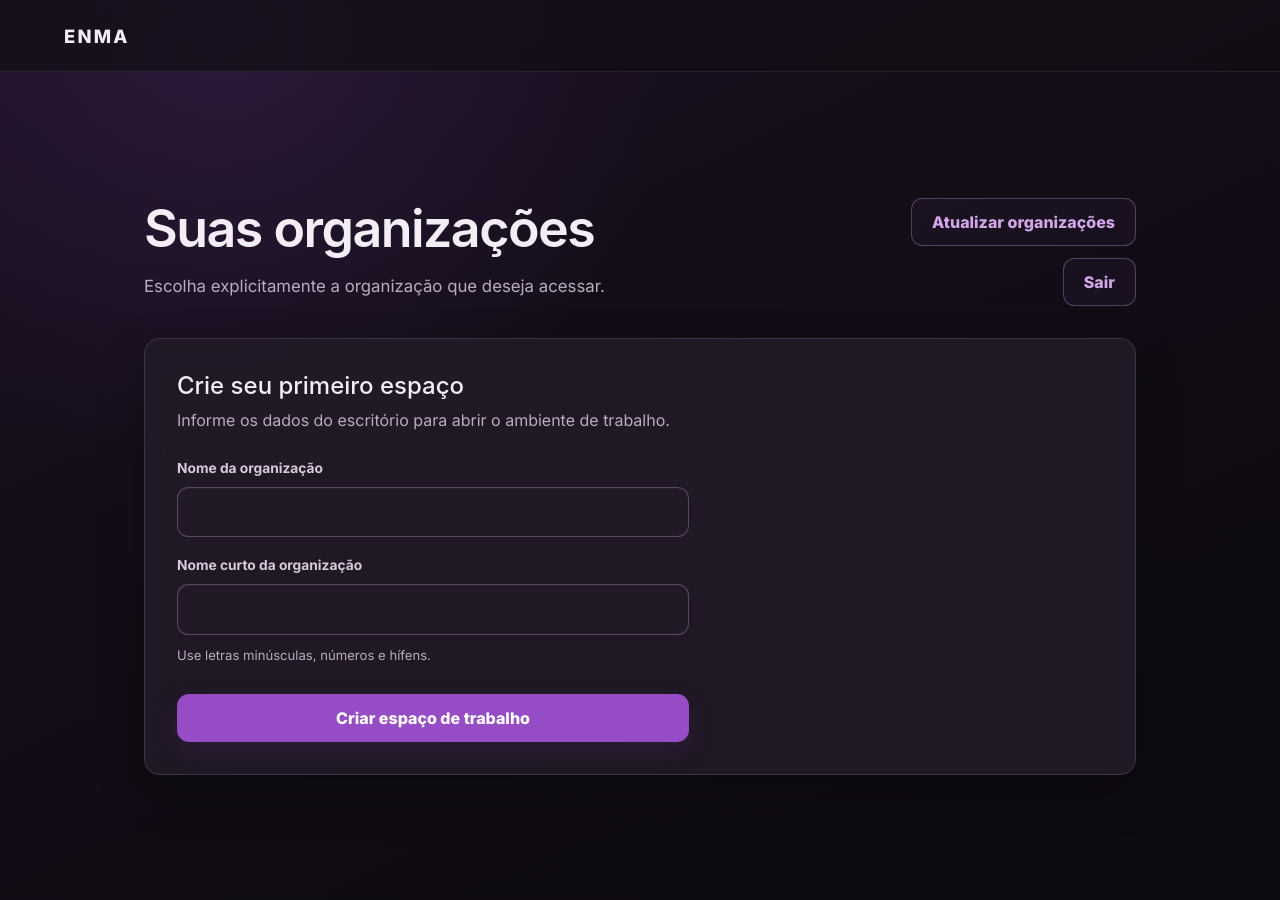
Scenario: organization discovery and routing › InitialOrganization_DuplicateShortName_AssociatesErrorAndAllowsRetry
Expected: the heading "Crie seu primeiro espaço" is shown, [177,370,464,400]
Type "Google Legal" into the field labelled "Nome da organização" at (433, 512), box [177,487,689,537]
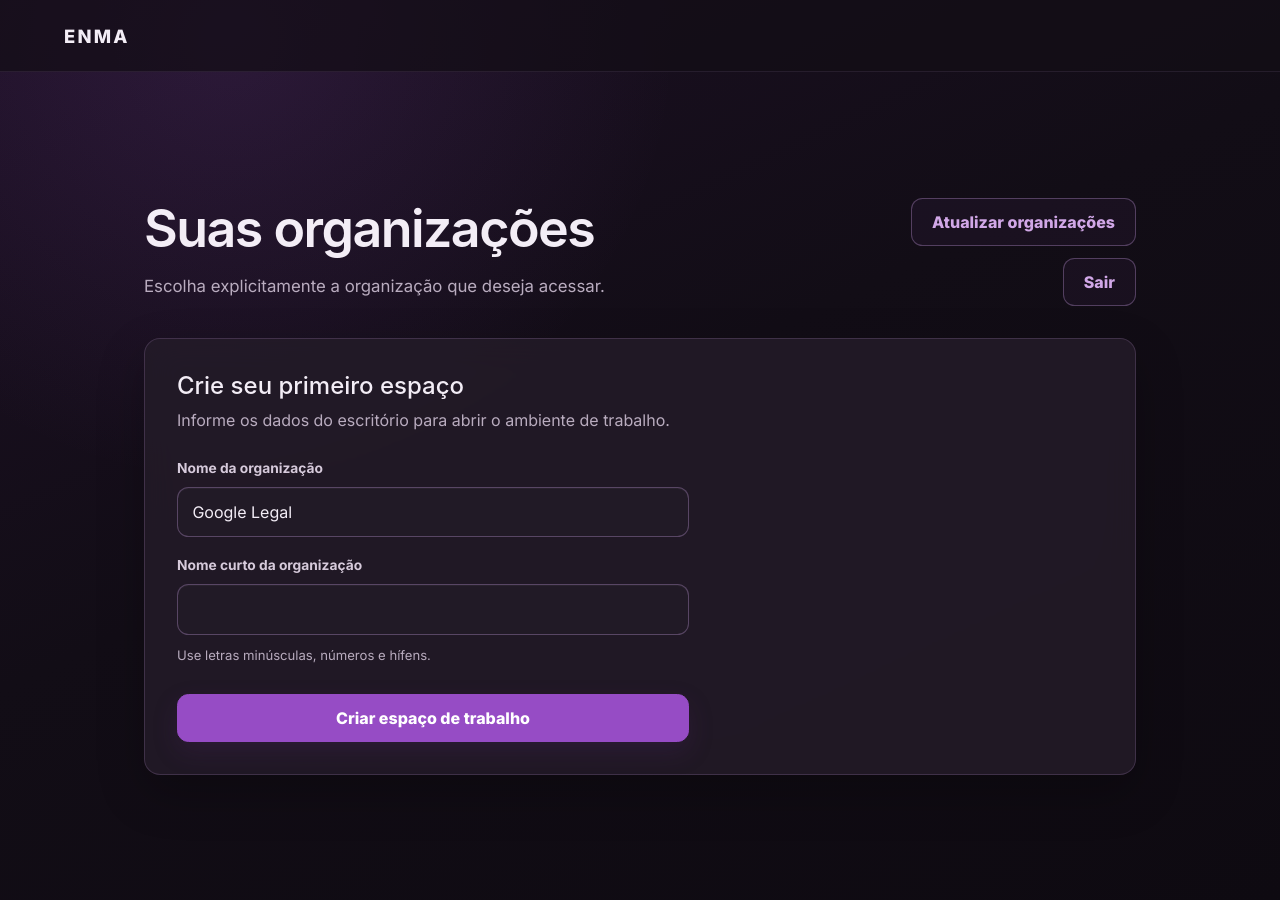
Type "google-legal" into the field labelled "Nome curto da organização" at (433, 610), box [177,584,689,635]
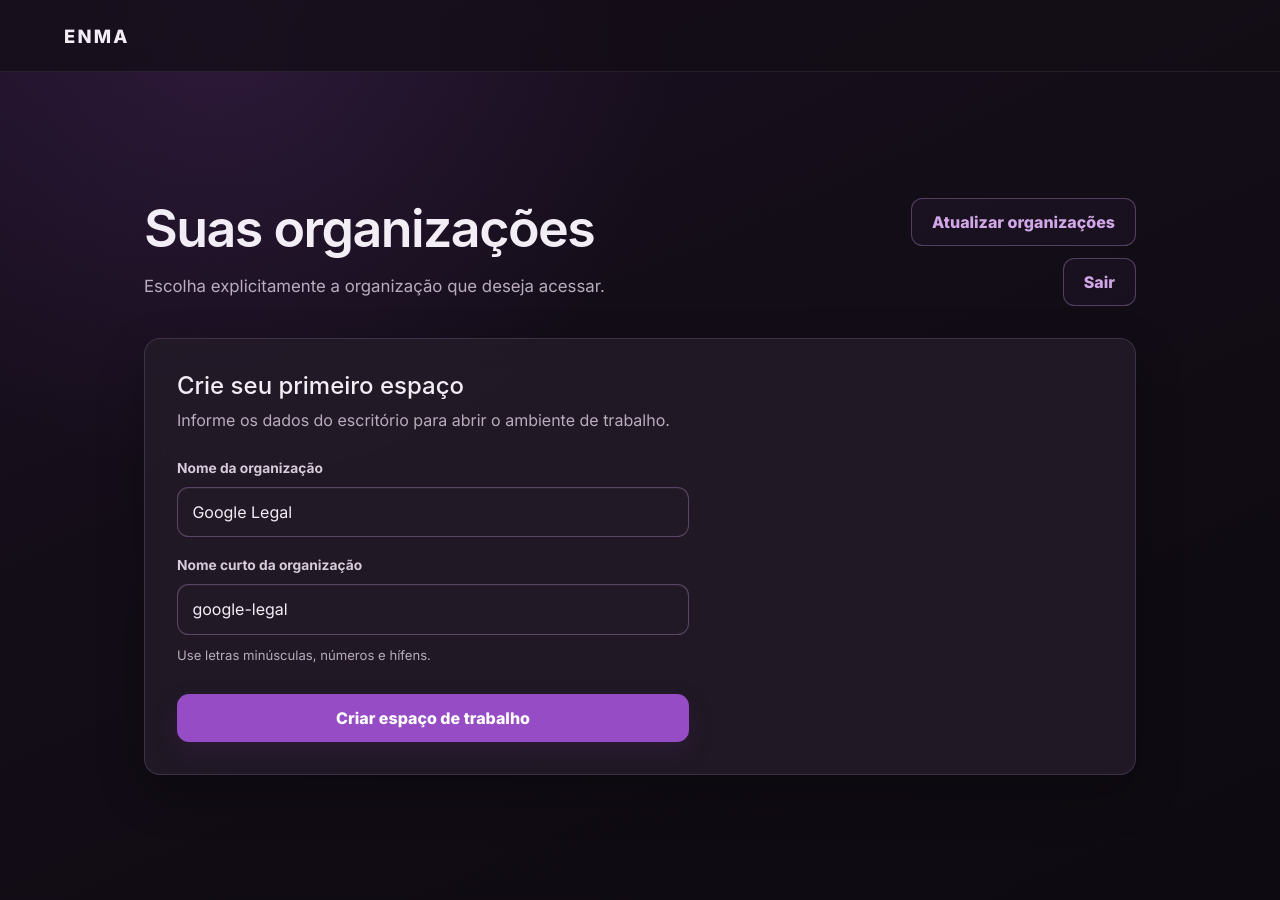
Submit the form named "Criar espaço de trabalho", box [177,460,689,742]
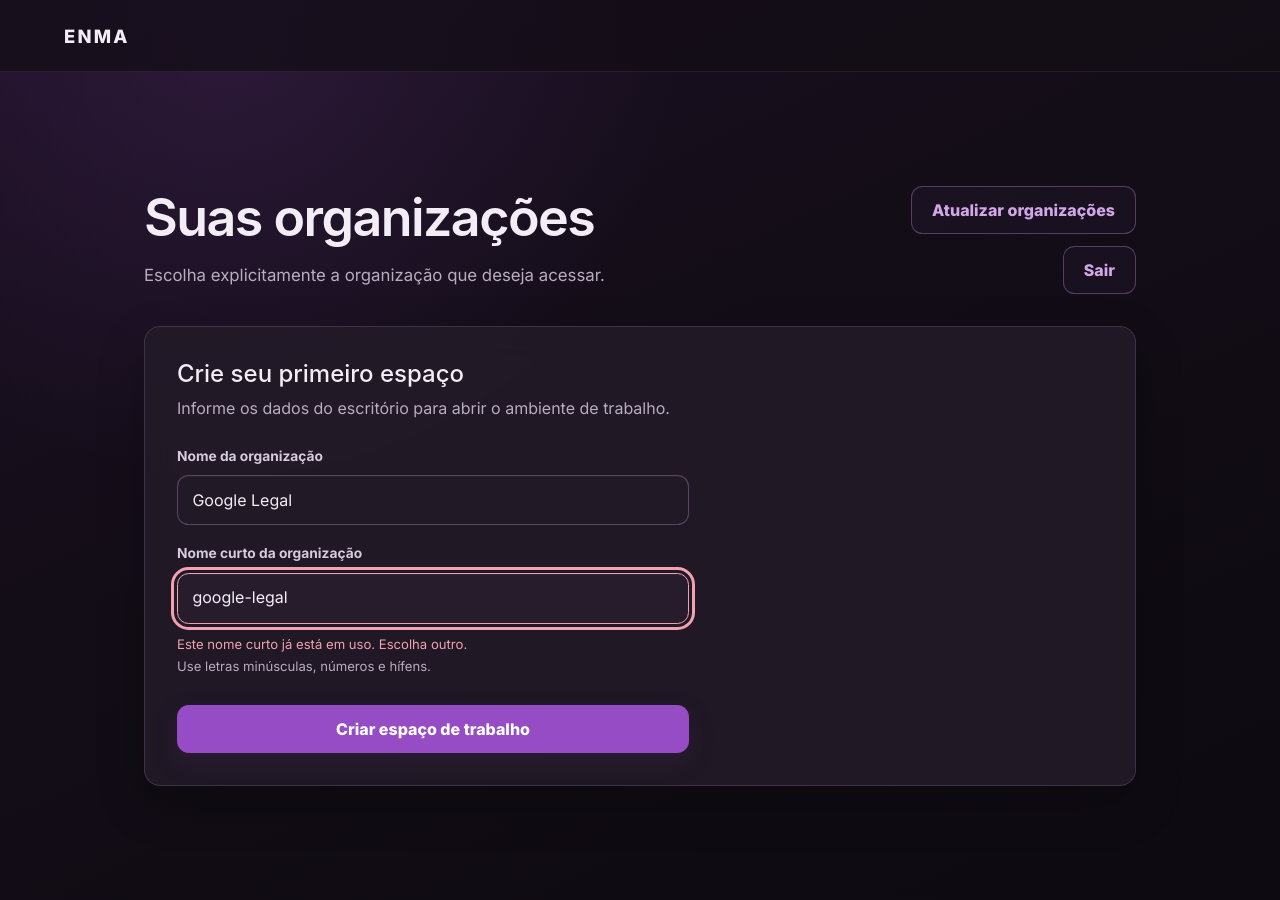
Result: the field labelled "Nome curto da organização" is marked as invalid
Replace the text in the field labelled "Nome curto da organização" with "google-legal-novo" at (433, 598), box [177,573,689,624]
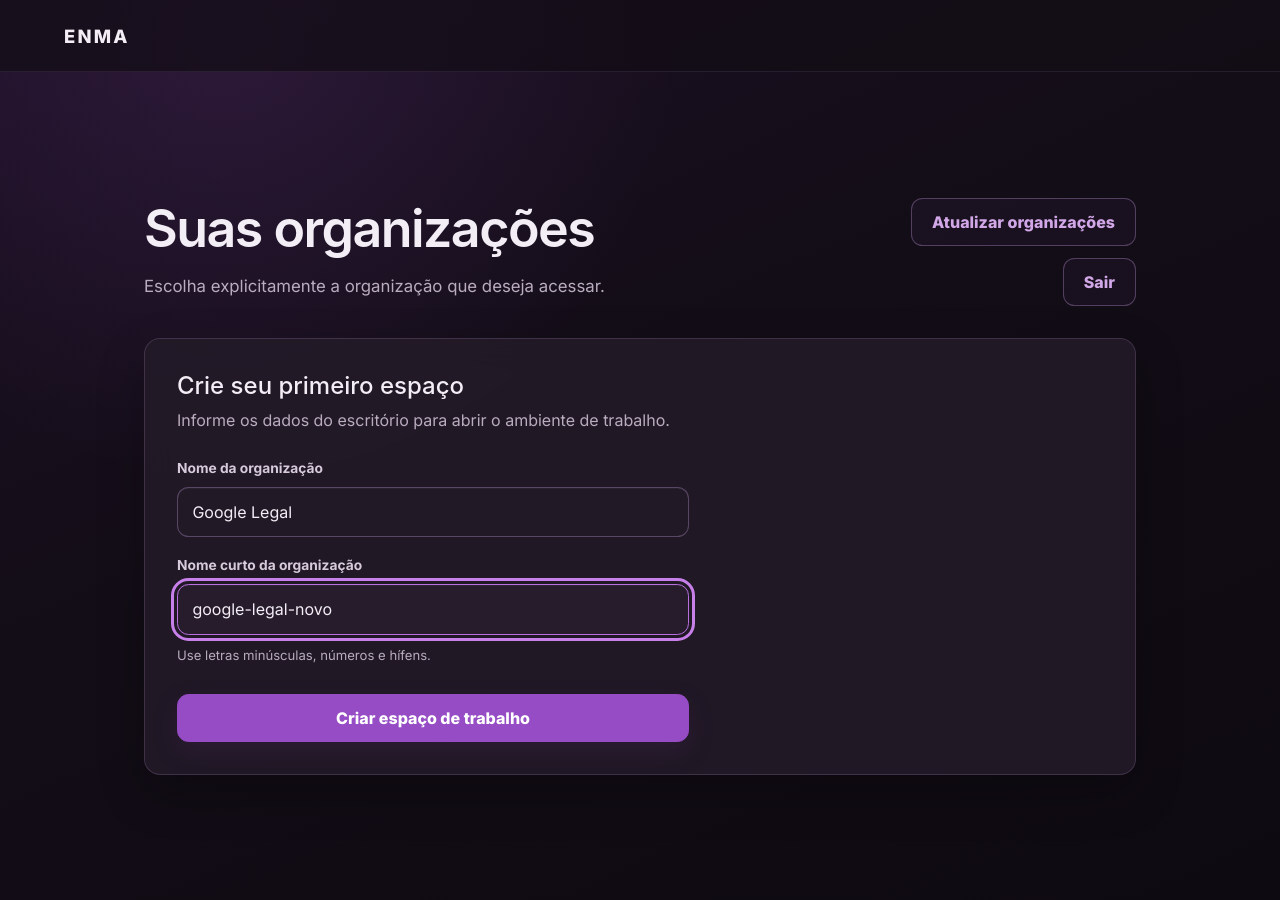
Result: the text "Este nome curto já está em uso. Escolha outro." is gone
Submit the form named "Criar espaço de trabalho", box [177,460,689,742]
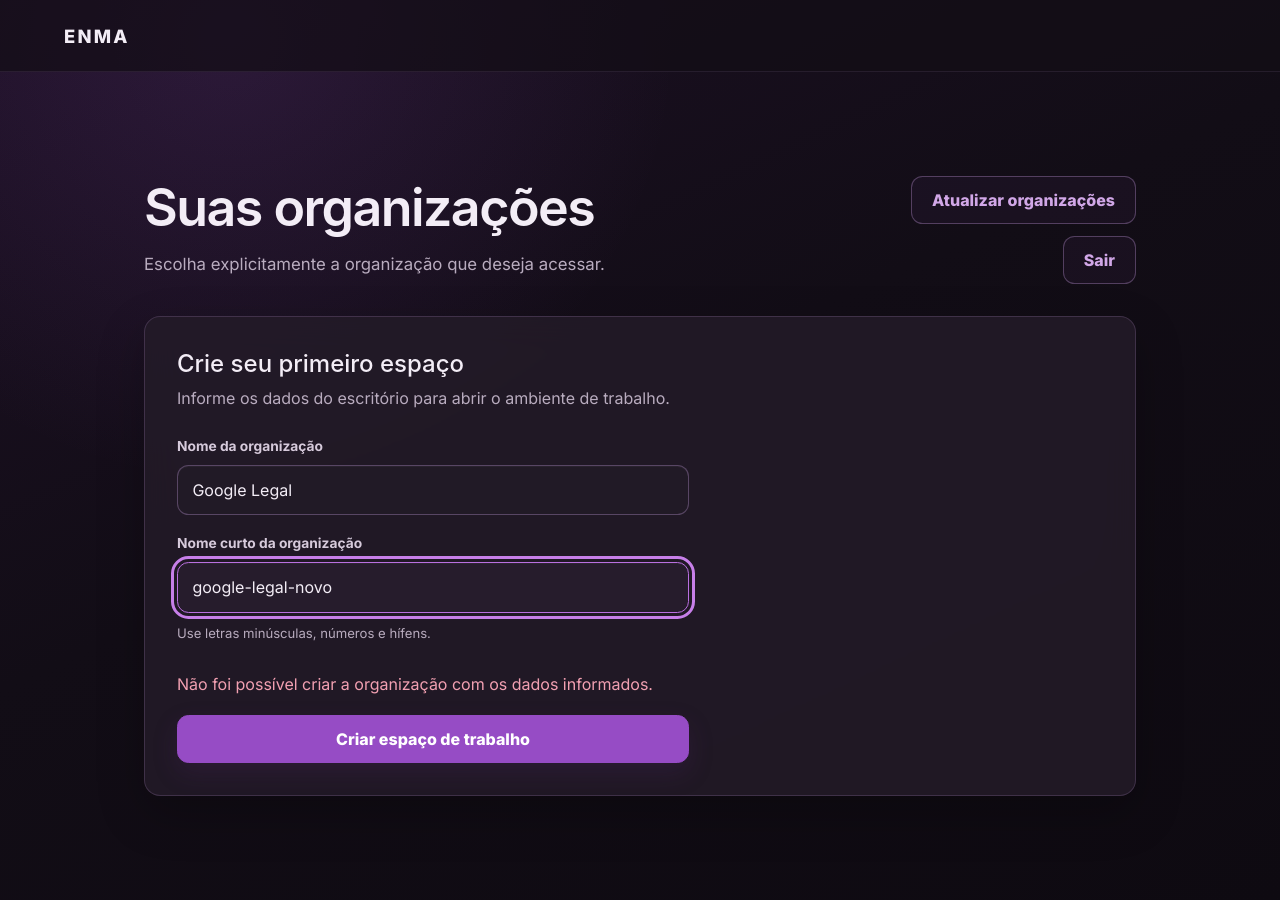
Result: the message reads "Não foi possível criar a organização com os dados informados." at [177,674,653,694]
